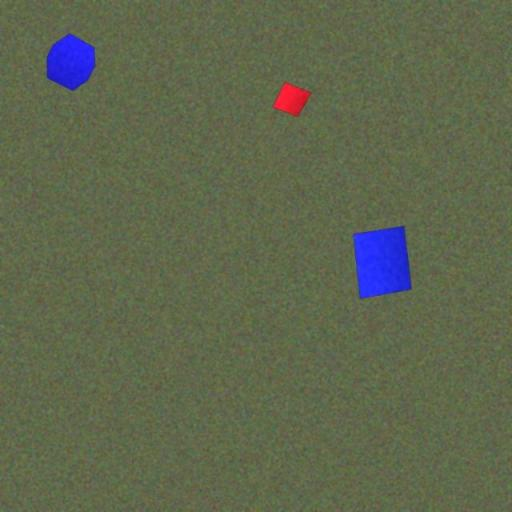BLUE_SQUARE: (353, 226, 412, 299)
RED_SQUARE: (271, 82, 312, 118)
